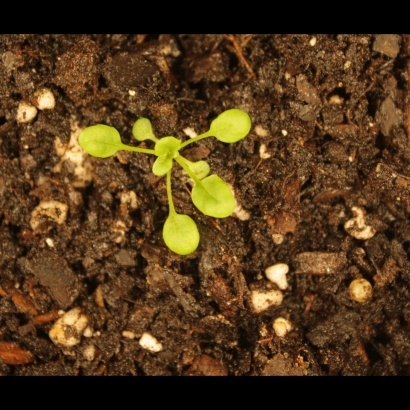leaf: (204, 107, 263, 150), (190, 174, 240, 220), (78, 116, 126, 160), (159, 210, 201, 258), (130, 113, 158, 147), (146, 157, 175, 187), (149, 132, 183, 155), (185, 158, 211, 181)
